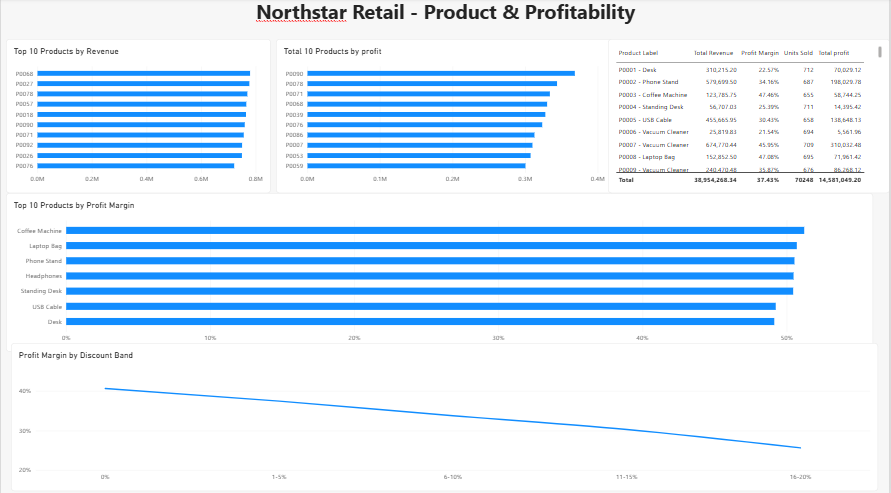

Layout of this report page (visuals, bound fields, positions):
{"tool":"powerbi","page":{"name":"product & prfitability","canvas":[1920,1080],"ordinal":1},"visuals":[{"type":"barChart","title":"Top 10 Products by Revenue","fields":{"Category":["vw_RetailSales.product_id"],"Y":["vw_RetailSales.Total Revenue"]},"box":[10.8,88.6,572.4,332.6],"z":0},{"type":"barChart","title":"Total 10 Products by profit","fields":{"Category":["vw_RetailSales.product_id"],"Y":["vw_RetailSales.Total profit"]},"box":[594,88.6,727.9,332.6],"z":1},{"type":"barChart","title":"Top 10 Products by Profit Margin","fields":{"Category":["vw_RetailSales.product_name","vw_RetailSales.product_id"],"Y":["vw_RetailSales.Profit Margin"]},"box":[10.8,421.2,1872.7,343.4],"z":2},{"type":"lineChart","fields":{"Category":["vw_RetailSales.Discount Band"],"Y":["vw_RetailSales.Profit Margin"]},"box":[21.6,745.2,1872.7,319.7],"z":3},{"type":"tableEx","fields":{"Values":["vw_RetailSales.Product Label","vw_RetailSales.Total Revenue","vw_RetailSales.Profit Margin","vw_RetailSales.Units Sold","vw_RetailSales.Total profit"]},"box":[1311.1,88.6,609.1,332.6],"z":4},{"type":"textbox","box":[0,0,1920.2,88.6],"z":5}]}

Visuals, with their boxes in screenshot pixels (x1, y1, x2, y2), scaled from the page's 1920x1080 canvas onto the 891x493 screenshot:
"Top 10 Products by Revenue" barChart: BBox(5, 40, 271, 192)
"Total 10 Products by profit" barChart: BBox(276, 40, 613, 192)
"Top 10 Products by Profit Margin" barChart: BBox(5, 192, 874, 349)
lineChart - vw_RetailSales.Discount Band x vw_RetailSales.Profit Margin: BBox(10, 340, 879, 486)
tableEx - vw_RetailSales.Product Label x vw_RetailSales.Total Revenue: BBox(608, 40, 890, 192)
textbox: BBox(0, 0, 890, 40)
